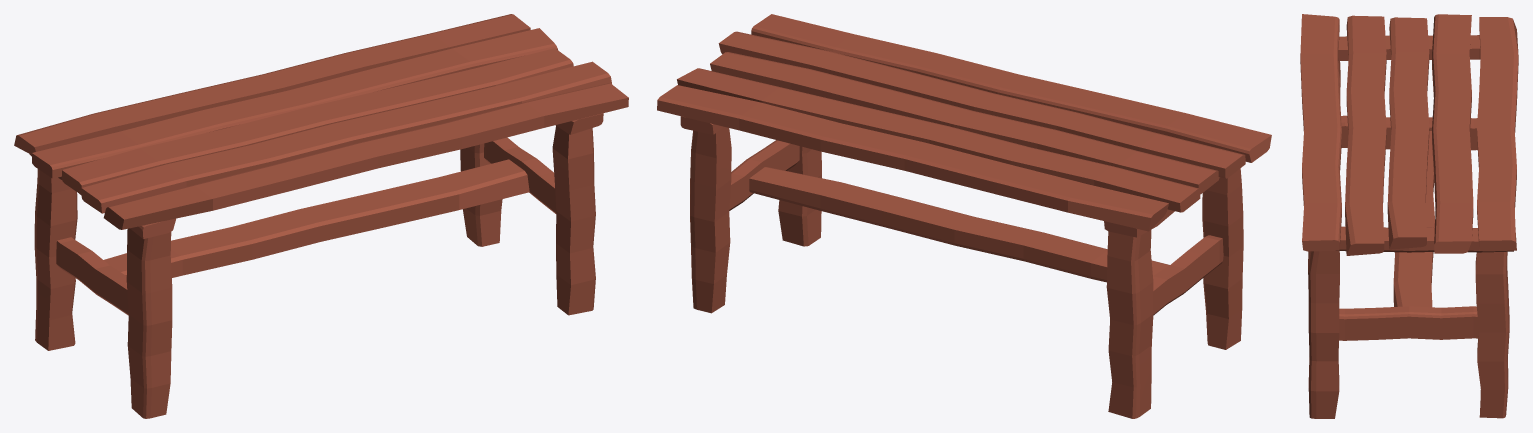
Rendered from table.glb.
3 views of the same model, side by side, from view 1: azimuth 30°, elevation 25°; view 2: azimuth 150°, elevation 25°; view 3: azimuth 270°, elevation 25° (orthographic). The views are drawn at different scales.
Parts seen in each view (by area): view 1: table; view 2: table; view 3: table.
Boxes of the visible parts, <box> form: table: <box>14,14,628,418</box>; table: <box>657,14,1271,418</box>; table: <box>1300,14,1518,418</box>.
Bounding box in the file's own units: 2 × 0.7796 × 0.8014.
Materials: 1 (1 with a texture image).
